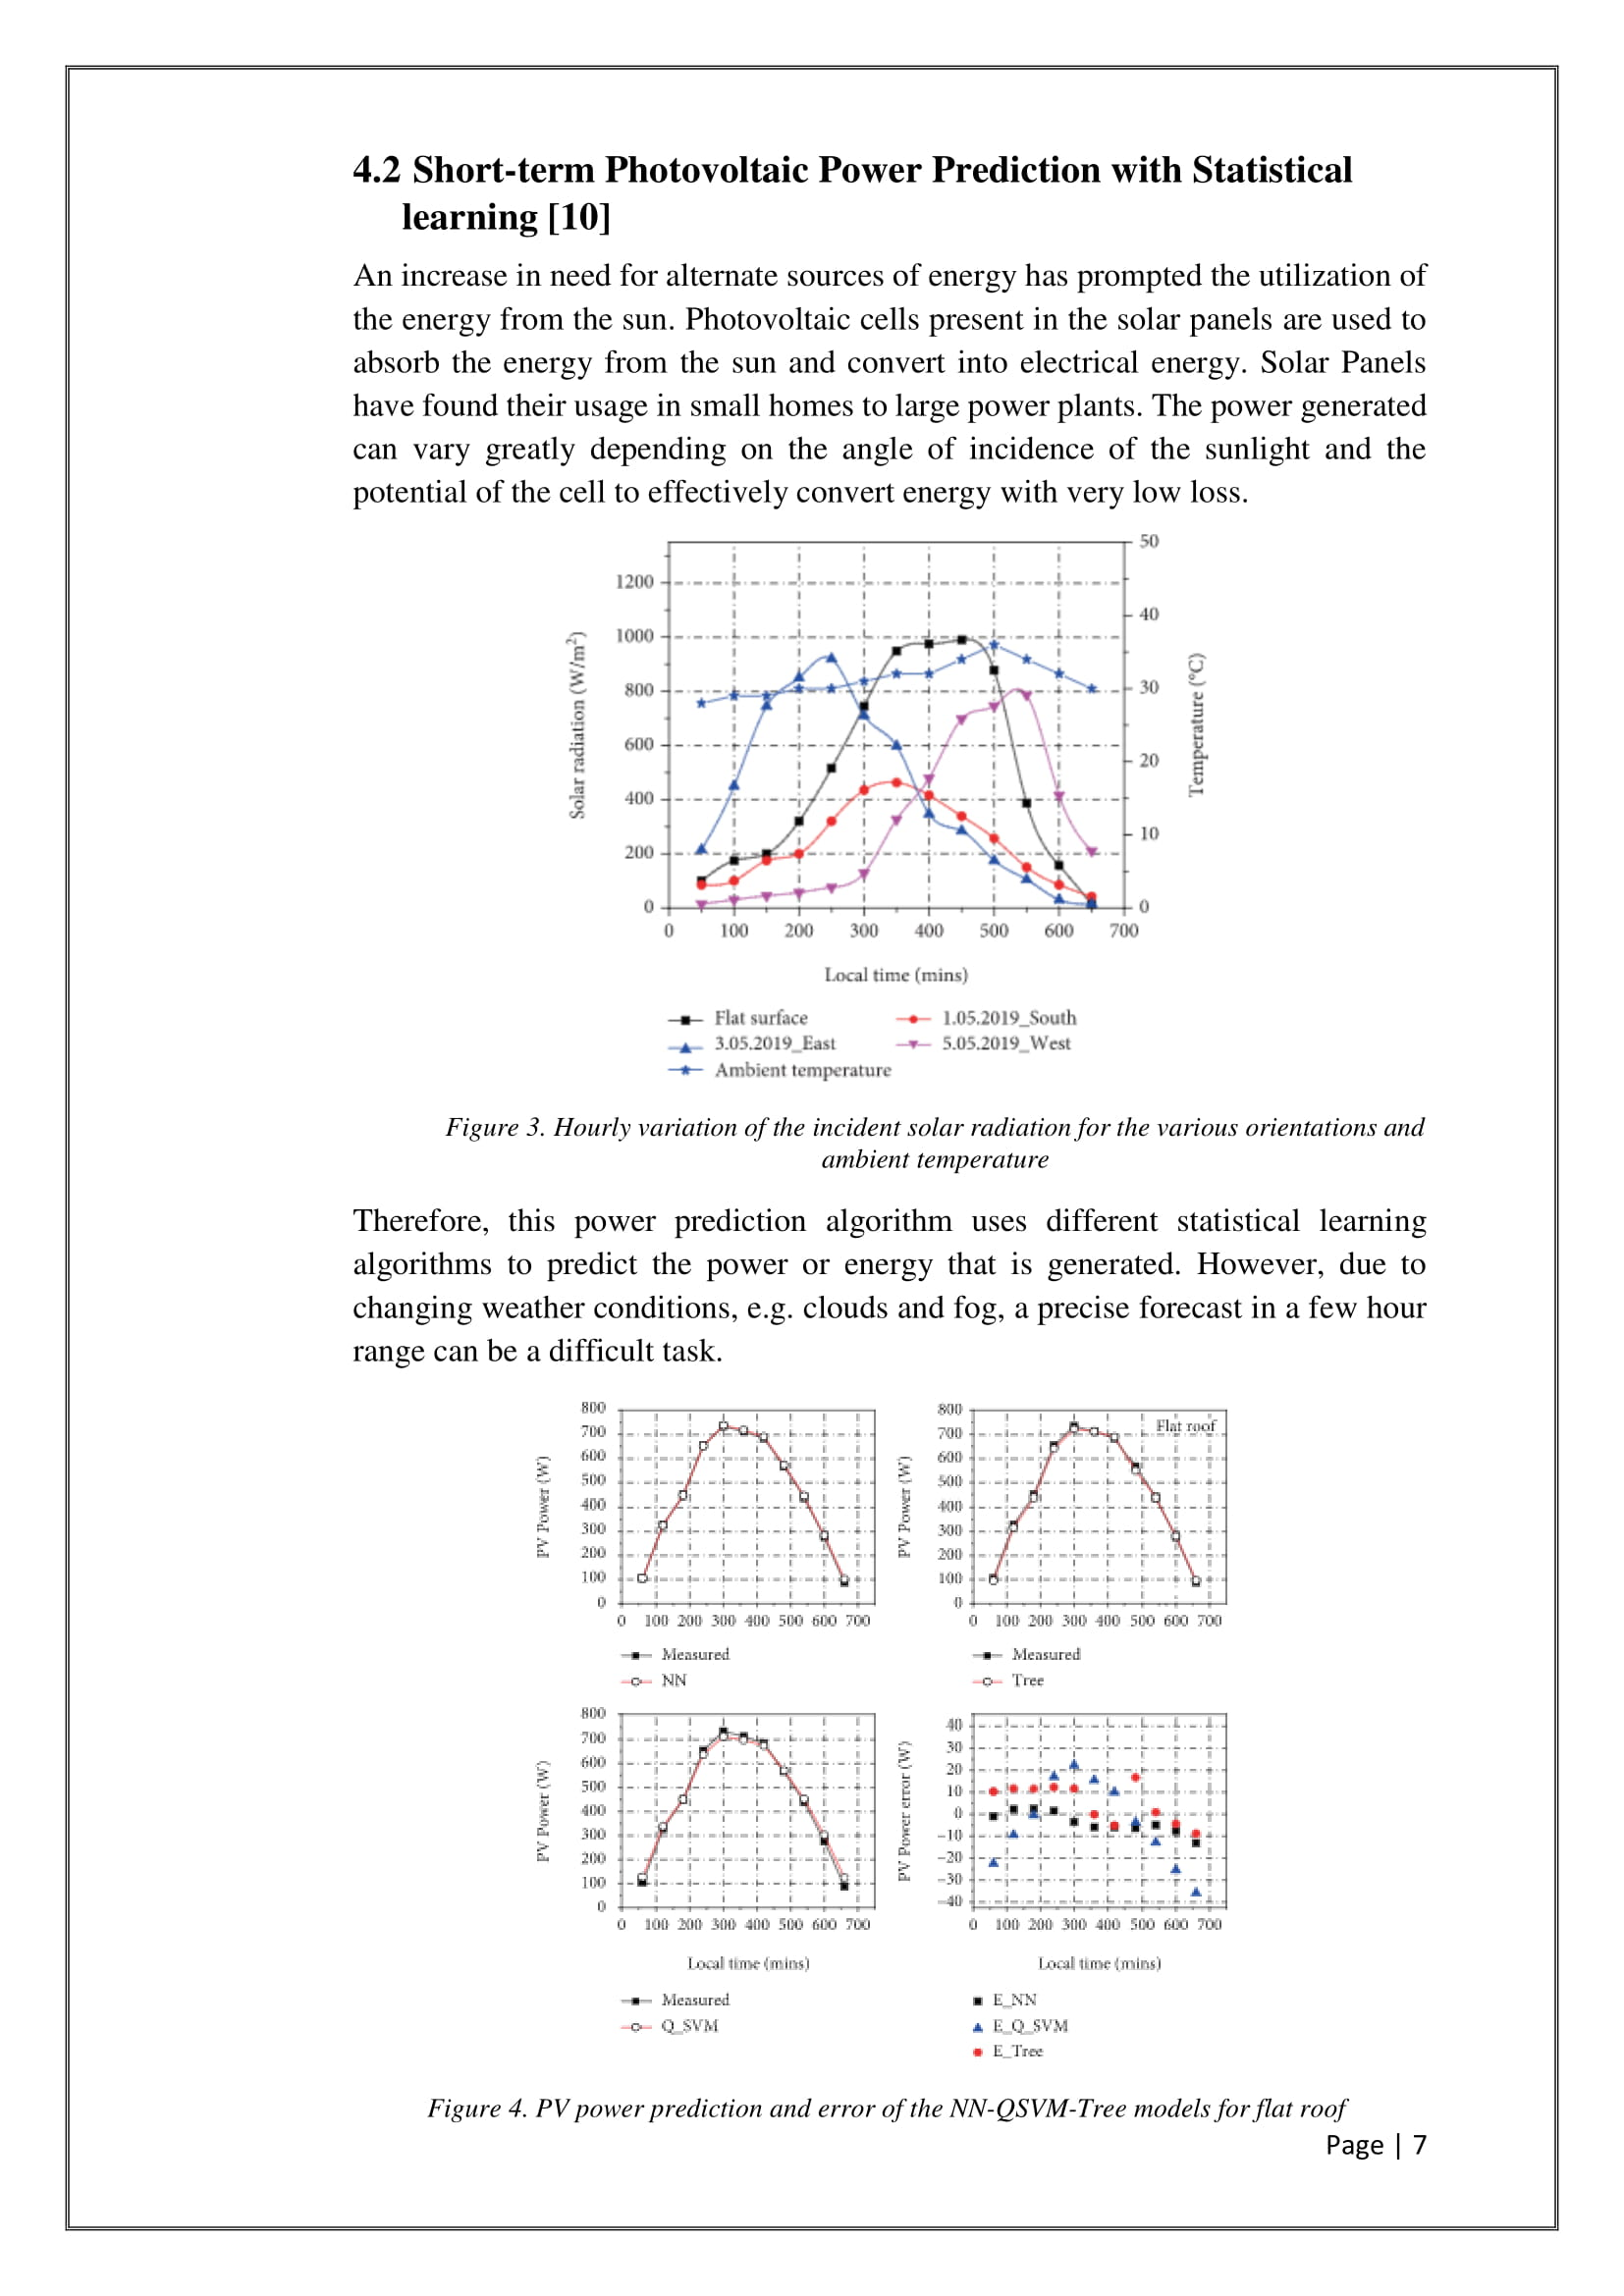BB1: (274, 111, 1485, 520)
BB2: (244, 1189, 1517, 1383)
